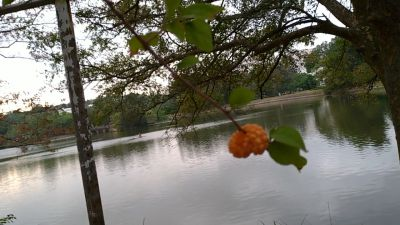eggs: (229, 121, 267, 160)
